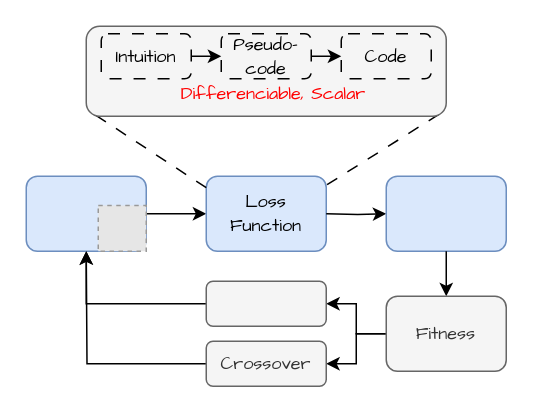
The diagram is 533 pixels wide and 413 high, and some of its shapes have lost their labels. Grey dashed boxes stand in for pictures. Each missing label, with the box of its shape:
Gate: (385, 175, 506, 251)
LLM: (25, 175, 146, 251)
Mutation: (205, 280, 326, 326)
